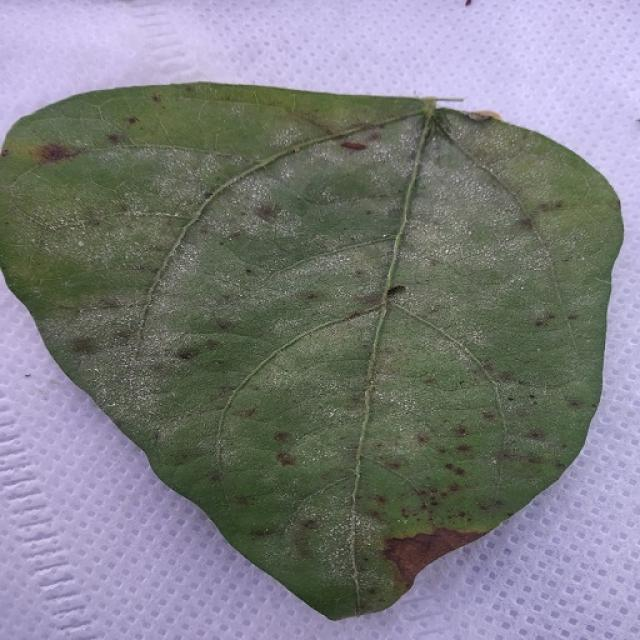Blackgram: (0, 84, 622, 618)
Powdery_Mildew: (405, 260, 586, 431), (400, 166, 551, 294), (17, 168, 182, 278), (61, 286, 179, 404), (265, 328, 385, 434), (282, 469, 370, 598), (533, 130, 621, 234), (210, 161, 310, 234), (6, 113, 128, 170), (318, 127, 417, 185), (170, 85, 327, 115), (136, 99, 213, 151), (424, 163, 498, 216), (408, 477, 472, 510), (311, 250, 370, 285), (69, 335, 98, 355), (444, 462, 464, 474), (442, 246, 452, 256), (77, 240, 84, 247), (398, 518, 404, 524), (403, 519, 409, 524), (382, 233, 388, 238)
